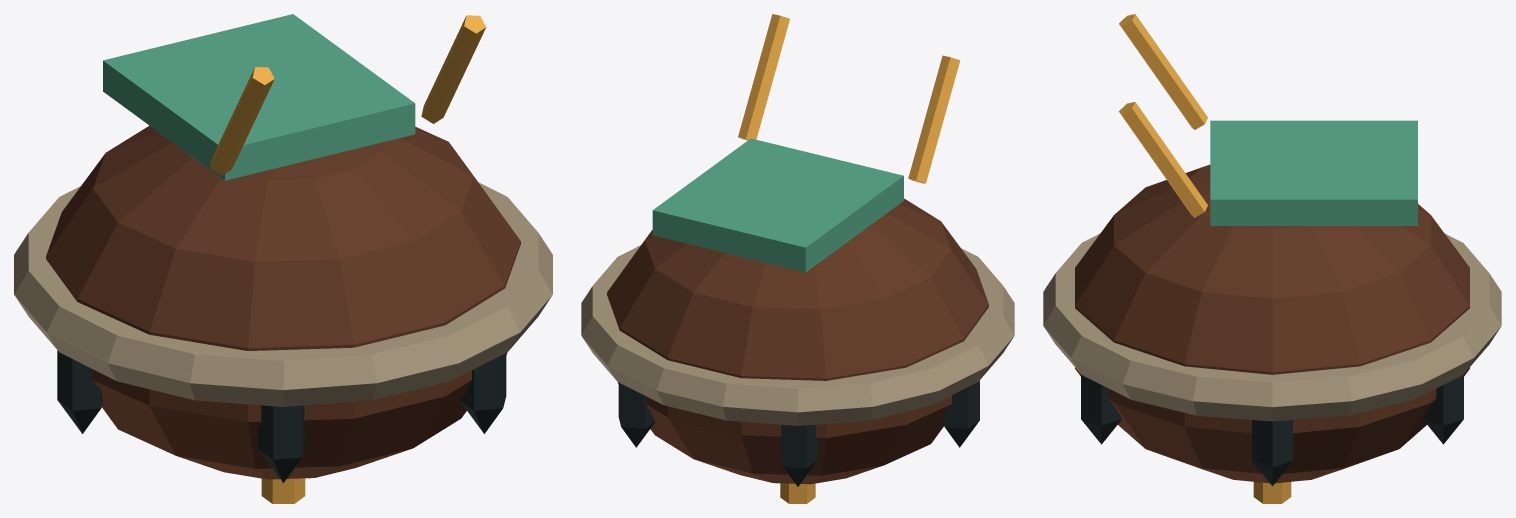
File: ParkParkCoconutPod.obj
3 renders of one model, left to right at view 1: azimuth 30°, elevation 25°; view 2: azimuth 150°, elevation 25°; view 3: azimuth 270°, elevation 25°, orthographic. The views are drawn at different scales.
Visible parts, largest first — view 1: ParkParkCoconutPod; view 2: ParkParkCoconutPod; view 3: ParkParkCoconutPod.
Part boxes in pixels (box(x1,y1,x2,y2)): ParkParkCoconutPod: box(14, 14, 552, 503); ParkParkCoconutPod: box(581, 14, 1014, 503); ParkParkCoconutPod: box(1043, 14, 1501, 503).
Size of the model in its own units: 2.24 by 2.33 by 2.21.
